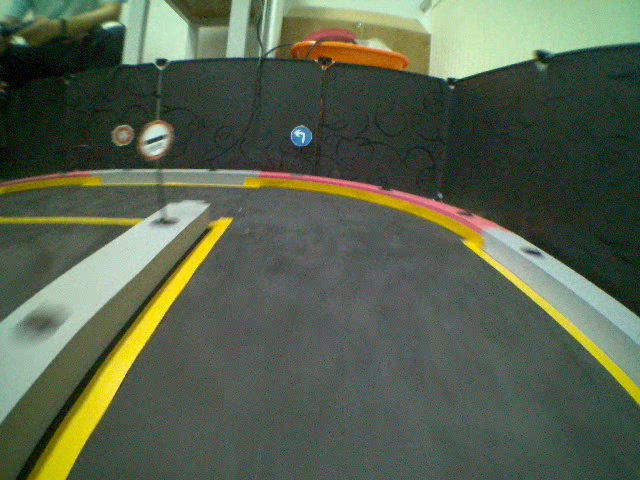Check: (137, 118, 172, 158)
Stop: (108, 123, 134, 149)
horn: (289, 123, 315, 149)
